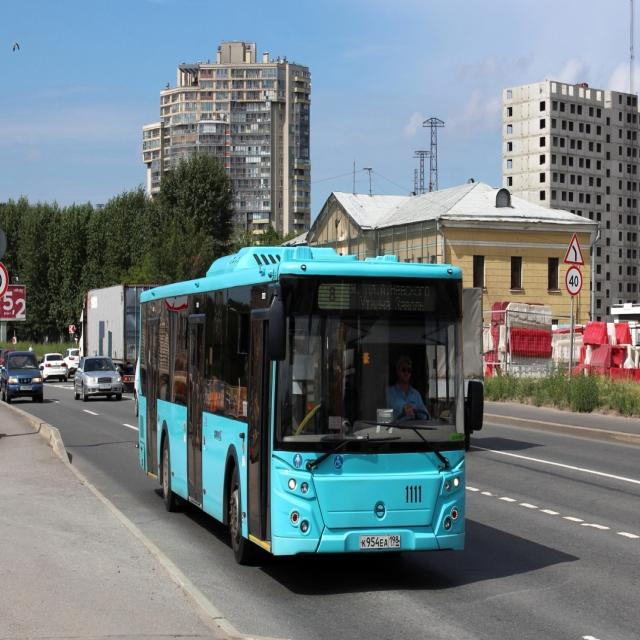number-of-bus: (324, 284, 342, 309)
